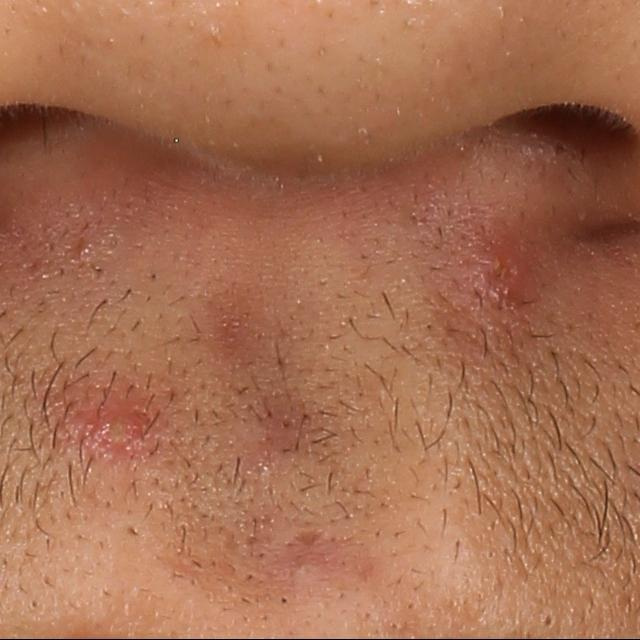comedo: (537, 610, 558, 633)
papule: (443, 212, 546, 322)
pustule: (91, 405, 146, 453)
